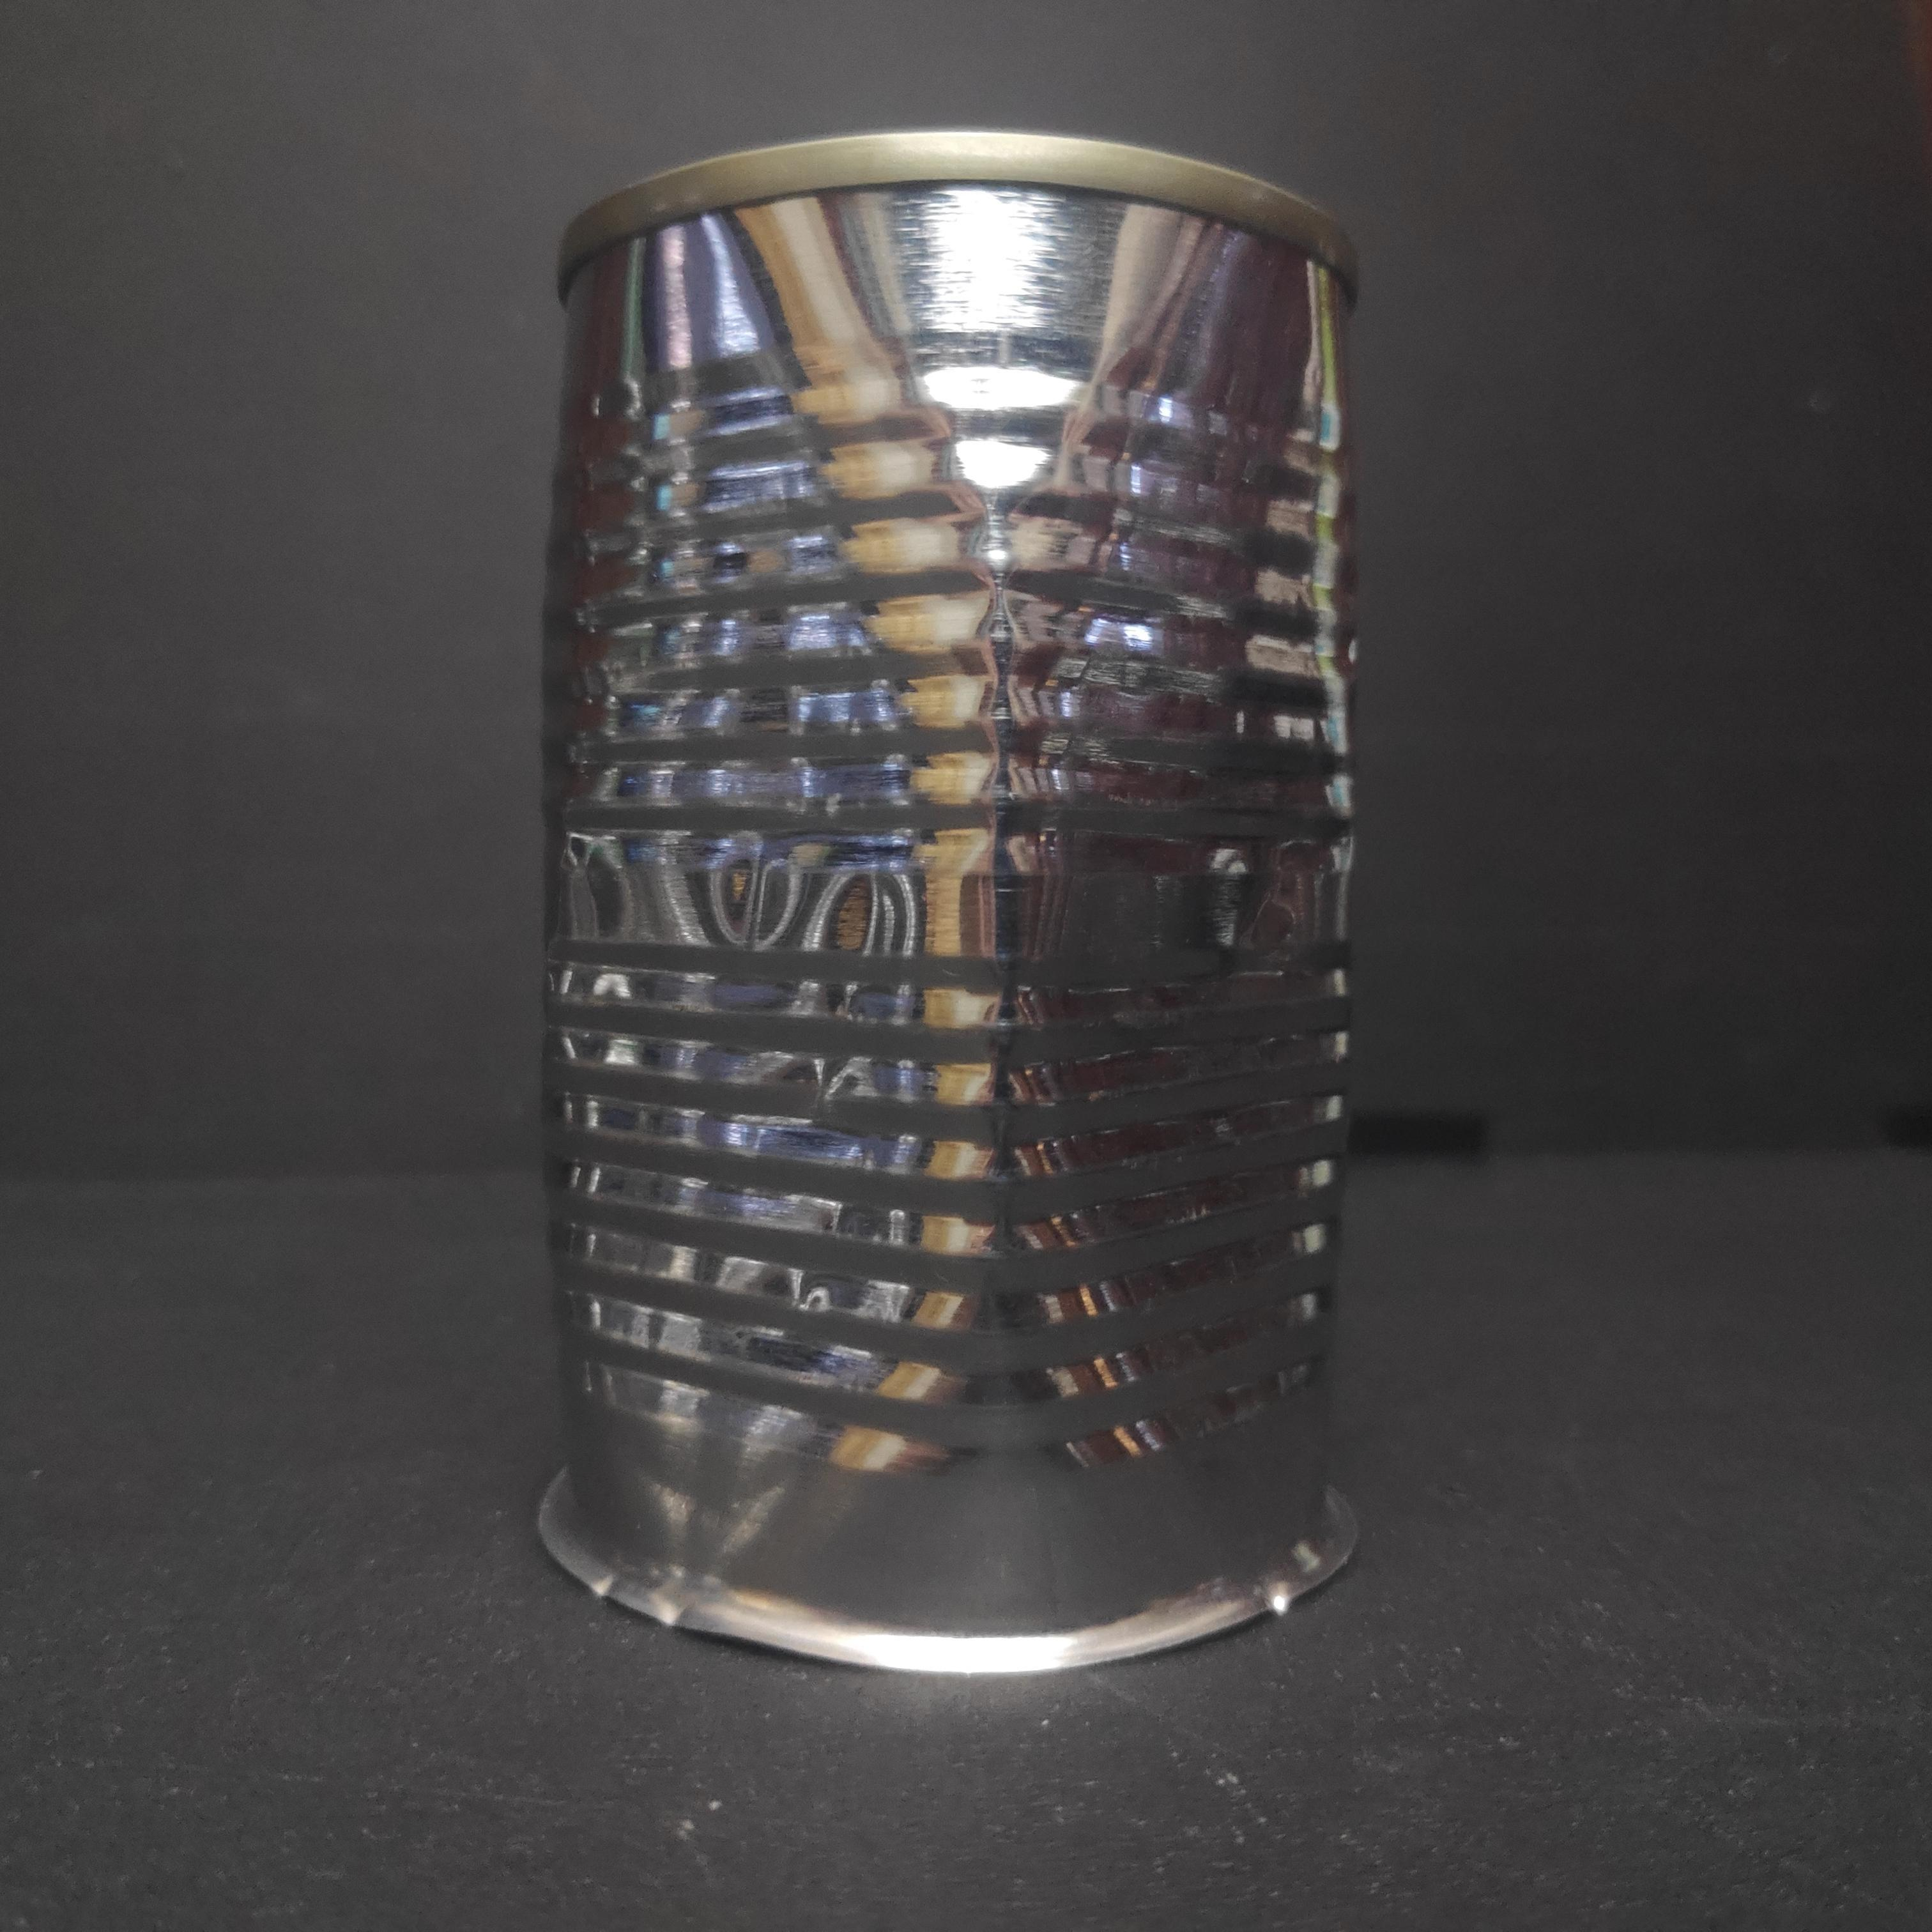Dented: (504, 92, 1399, 1690)
